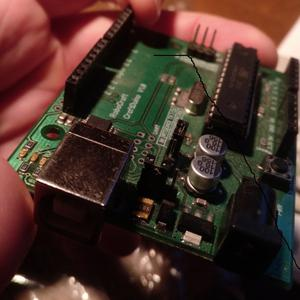duino: (22, 1, 295, 280)
